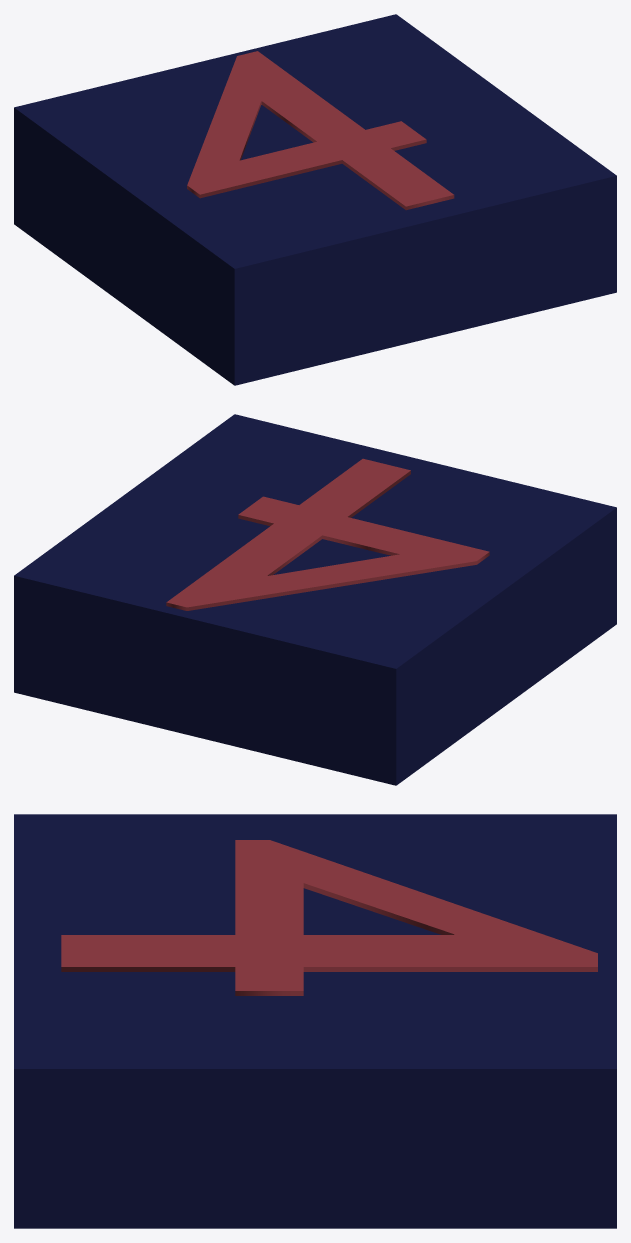
The model's file is four-pad.fbx.
The picture shows the model from 3 angles, top to bottom: view 1: azimuth 30°, elevation 25°; view 2: azimuth 150°, elevation 25°; view 3: azimuth 270°, elevation 25°; orthographic projection. The views are drawn at different scales.
Visible parts, largest first — view 1: Cube, Text; view 2: Cube, Text; view 3: Cube, Text.
Boxes of the visible parts, x1,y1,x2,y2 form: Cube: (14, 14, 616, 385); Text: (187, 51, 454, 210); Cube: (14, 414, 616, 785); Text: (166, 458, 489, 610); Cube: (14, 814, 616, 1228); Text: (61, 840, 597, 995).
Bounding box in the file's own units: 200 × 60.26 × 200.
